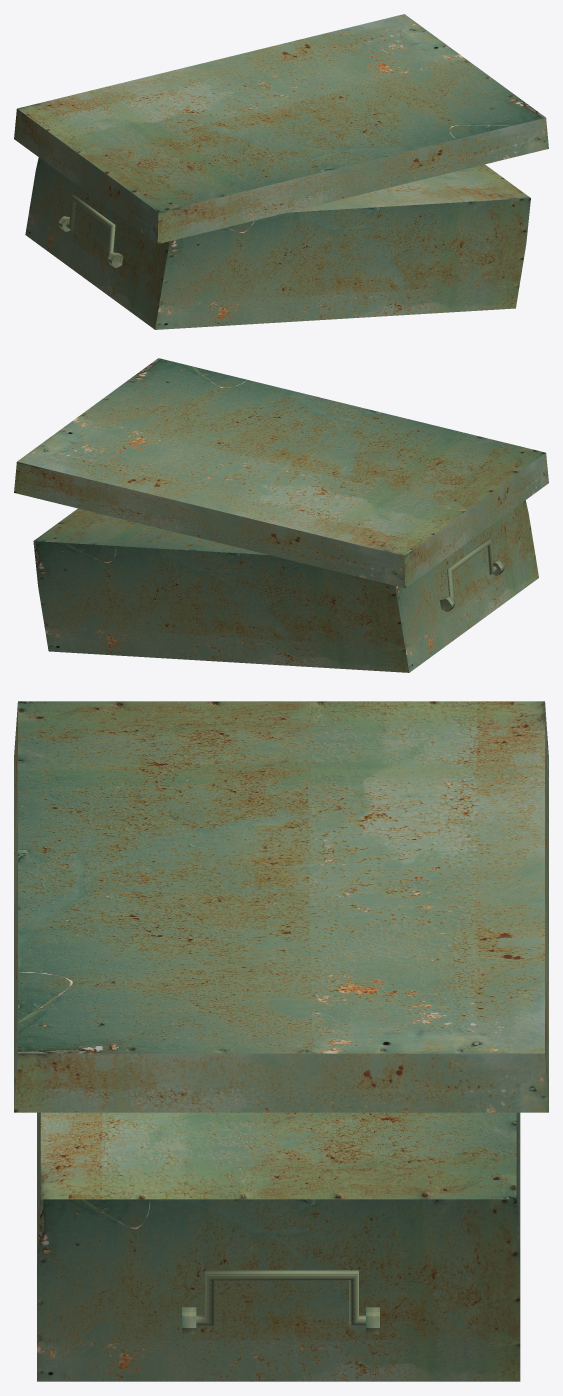
File: FootLockerFBX.FBX
The picture shows the model from 3 angles, top to bottom: view 1: azimuth 30°, elevation 25°; view 2: azimuth 150°, elevation 25°; view 3: azimuth 270°, elevation 25°; orthographic projection. The views are drawn at different scales.
Parts seen in each view (by area): view 1: Object001, FootLocker; view 2: Object001, FootLocker; view 3: Object001, FootLocker.
Part boxes in pixels (x1,y1,x2,y2): Object001: (14, 14, 548, 243); FootLocker: (25, 157, 530, 329); Object001: (14, 358, 548, 588); FootLocker: (33, 500, 538, 672); Object001: (14, 701, 548, 1112); FootLocker: (37, 1112, 520, 1381).
Size of the model in its own units: 18.62 by 8.55 by 11.81.
